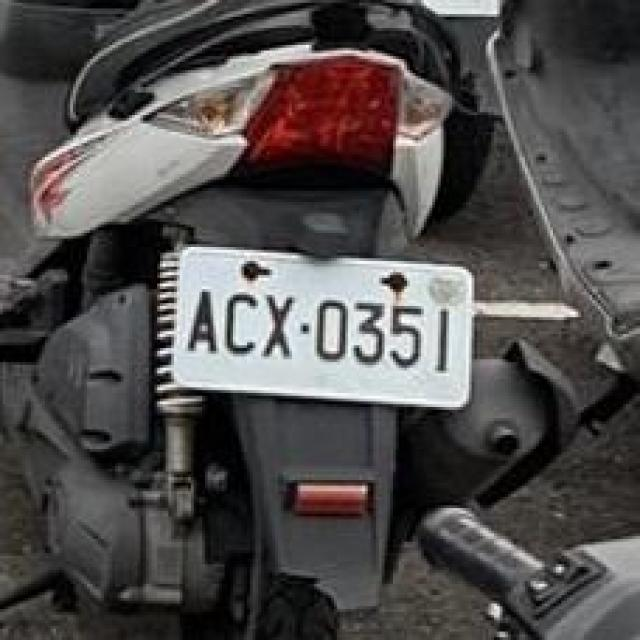W: (160, 230, 486, 416)
